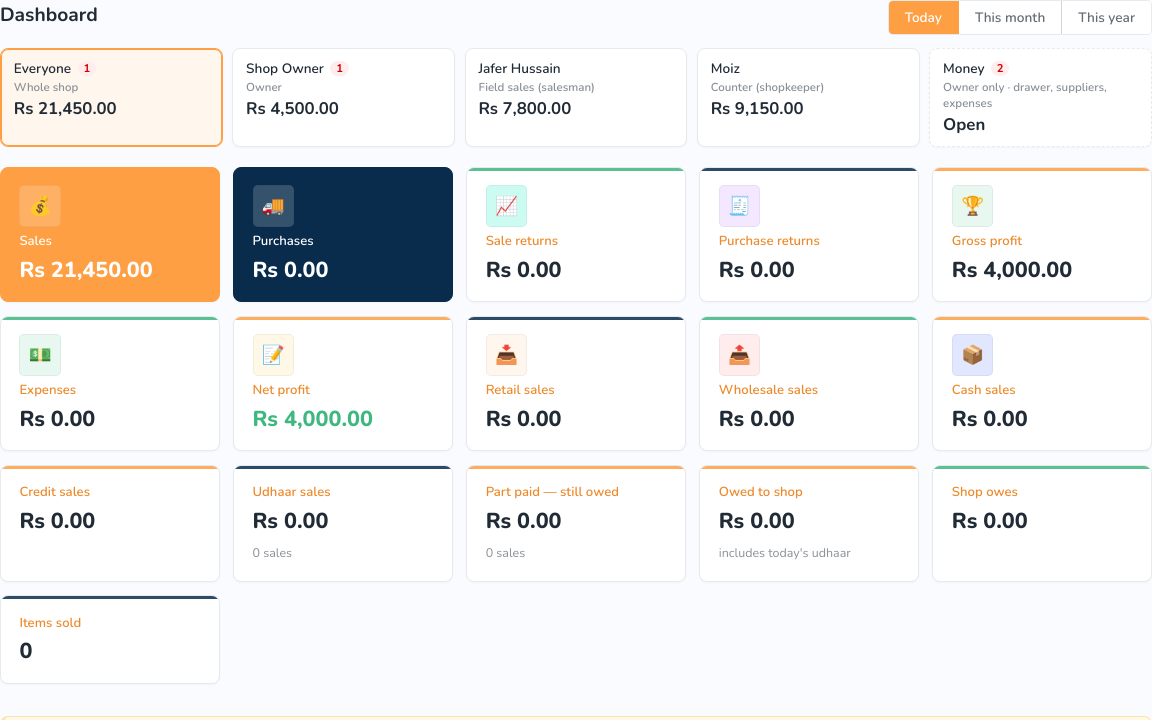
Scenario: the dashboard lens › shows one person's own figures — and cash and stock only for a field salesman
Click the button "Jafer Hussain Field sales (salesman) Rs 7,800.00": {"x": 576, "y": 97} [465,48,687,147]
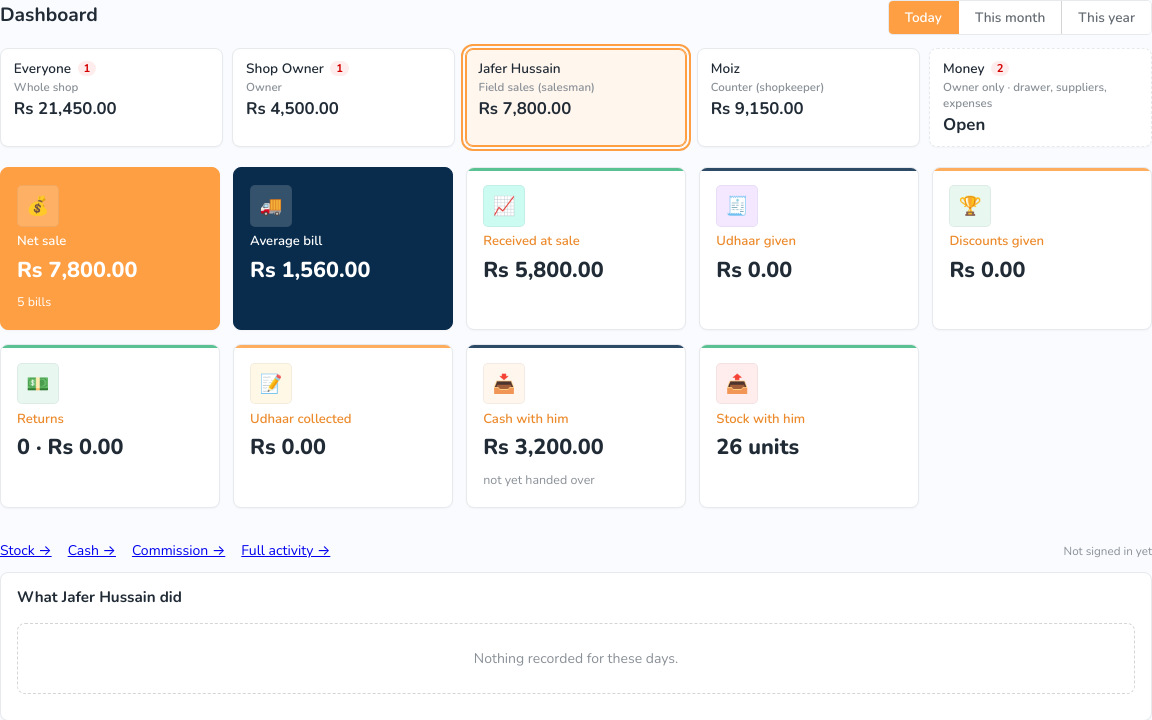
Expected: the text "Cash with him" is shown, [483,410,568,430]
Expected: the text "26 units" is shown, [716,435,799,461]
Expected: the link "Commission →" is shown, [132,540,225,561]
Click the button "Moiz Counter (shopkeeper) Rs 9,150.00": {"x": 808, "y": 97} [697,48,920,147]
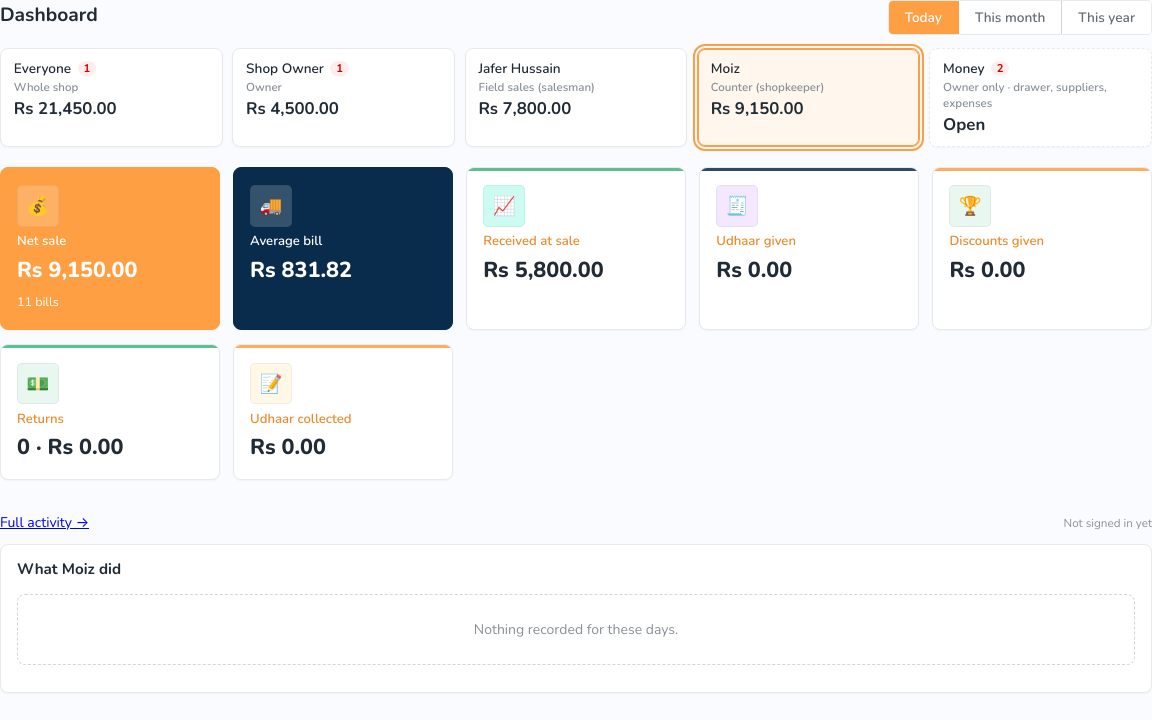
Expected: the text "Cash with him" is gone
